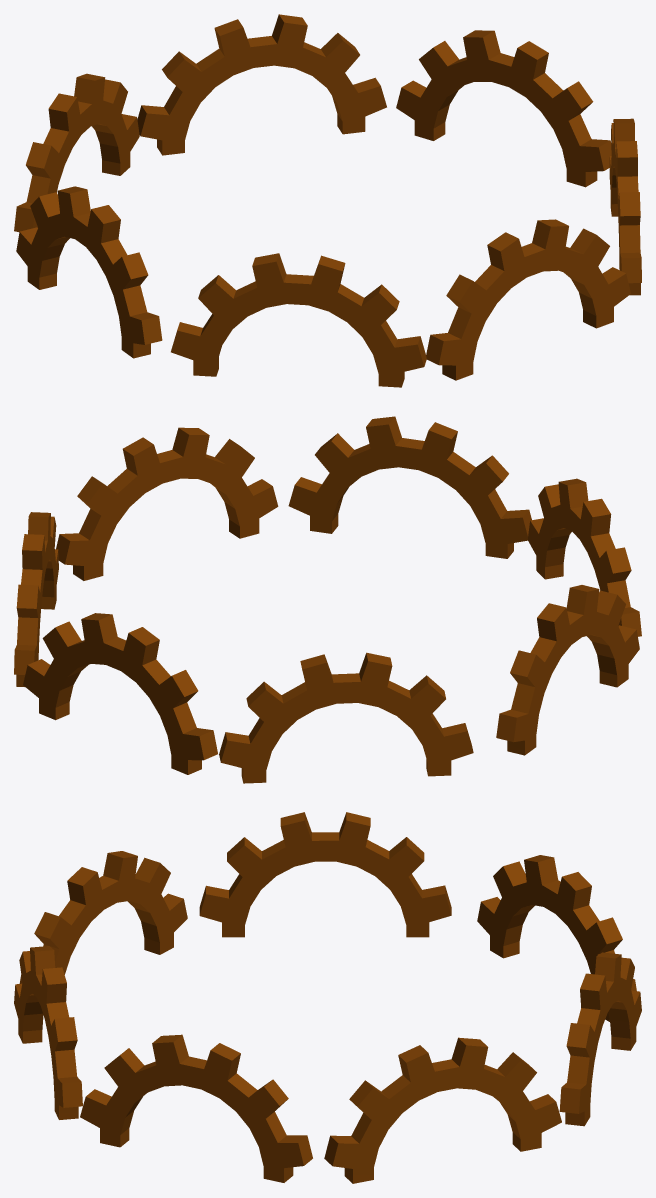
The model's file is Tree Fence.glb.
3 renders of one model, top to bottom at view 1: azimuth 30°, elevation 25°; view 2: azimuth 150°, elevation 25°; view 3: azimuth 270°, elevation 25°, orthographic.
Parts seen in each view (by area): view 1: TreeFence; view 2: TreeFence; view 3: TreeFence.
Part boxes in pixels (box(x1,y1,x2,y2)): TreeFence: box(14, 14, 641, 387); TreeFence: box(14, 416, 641, 783); TreeFence: box(14, 812, 641, 1183).
Size of what is drawn, in the model's own units: 2.29 by 0.4816 by 2.35.
1 material, 1 textured.
